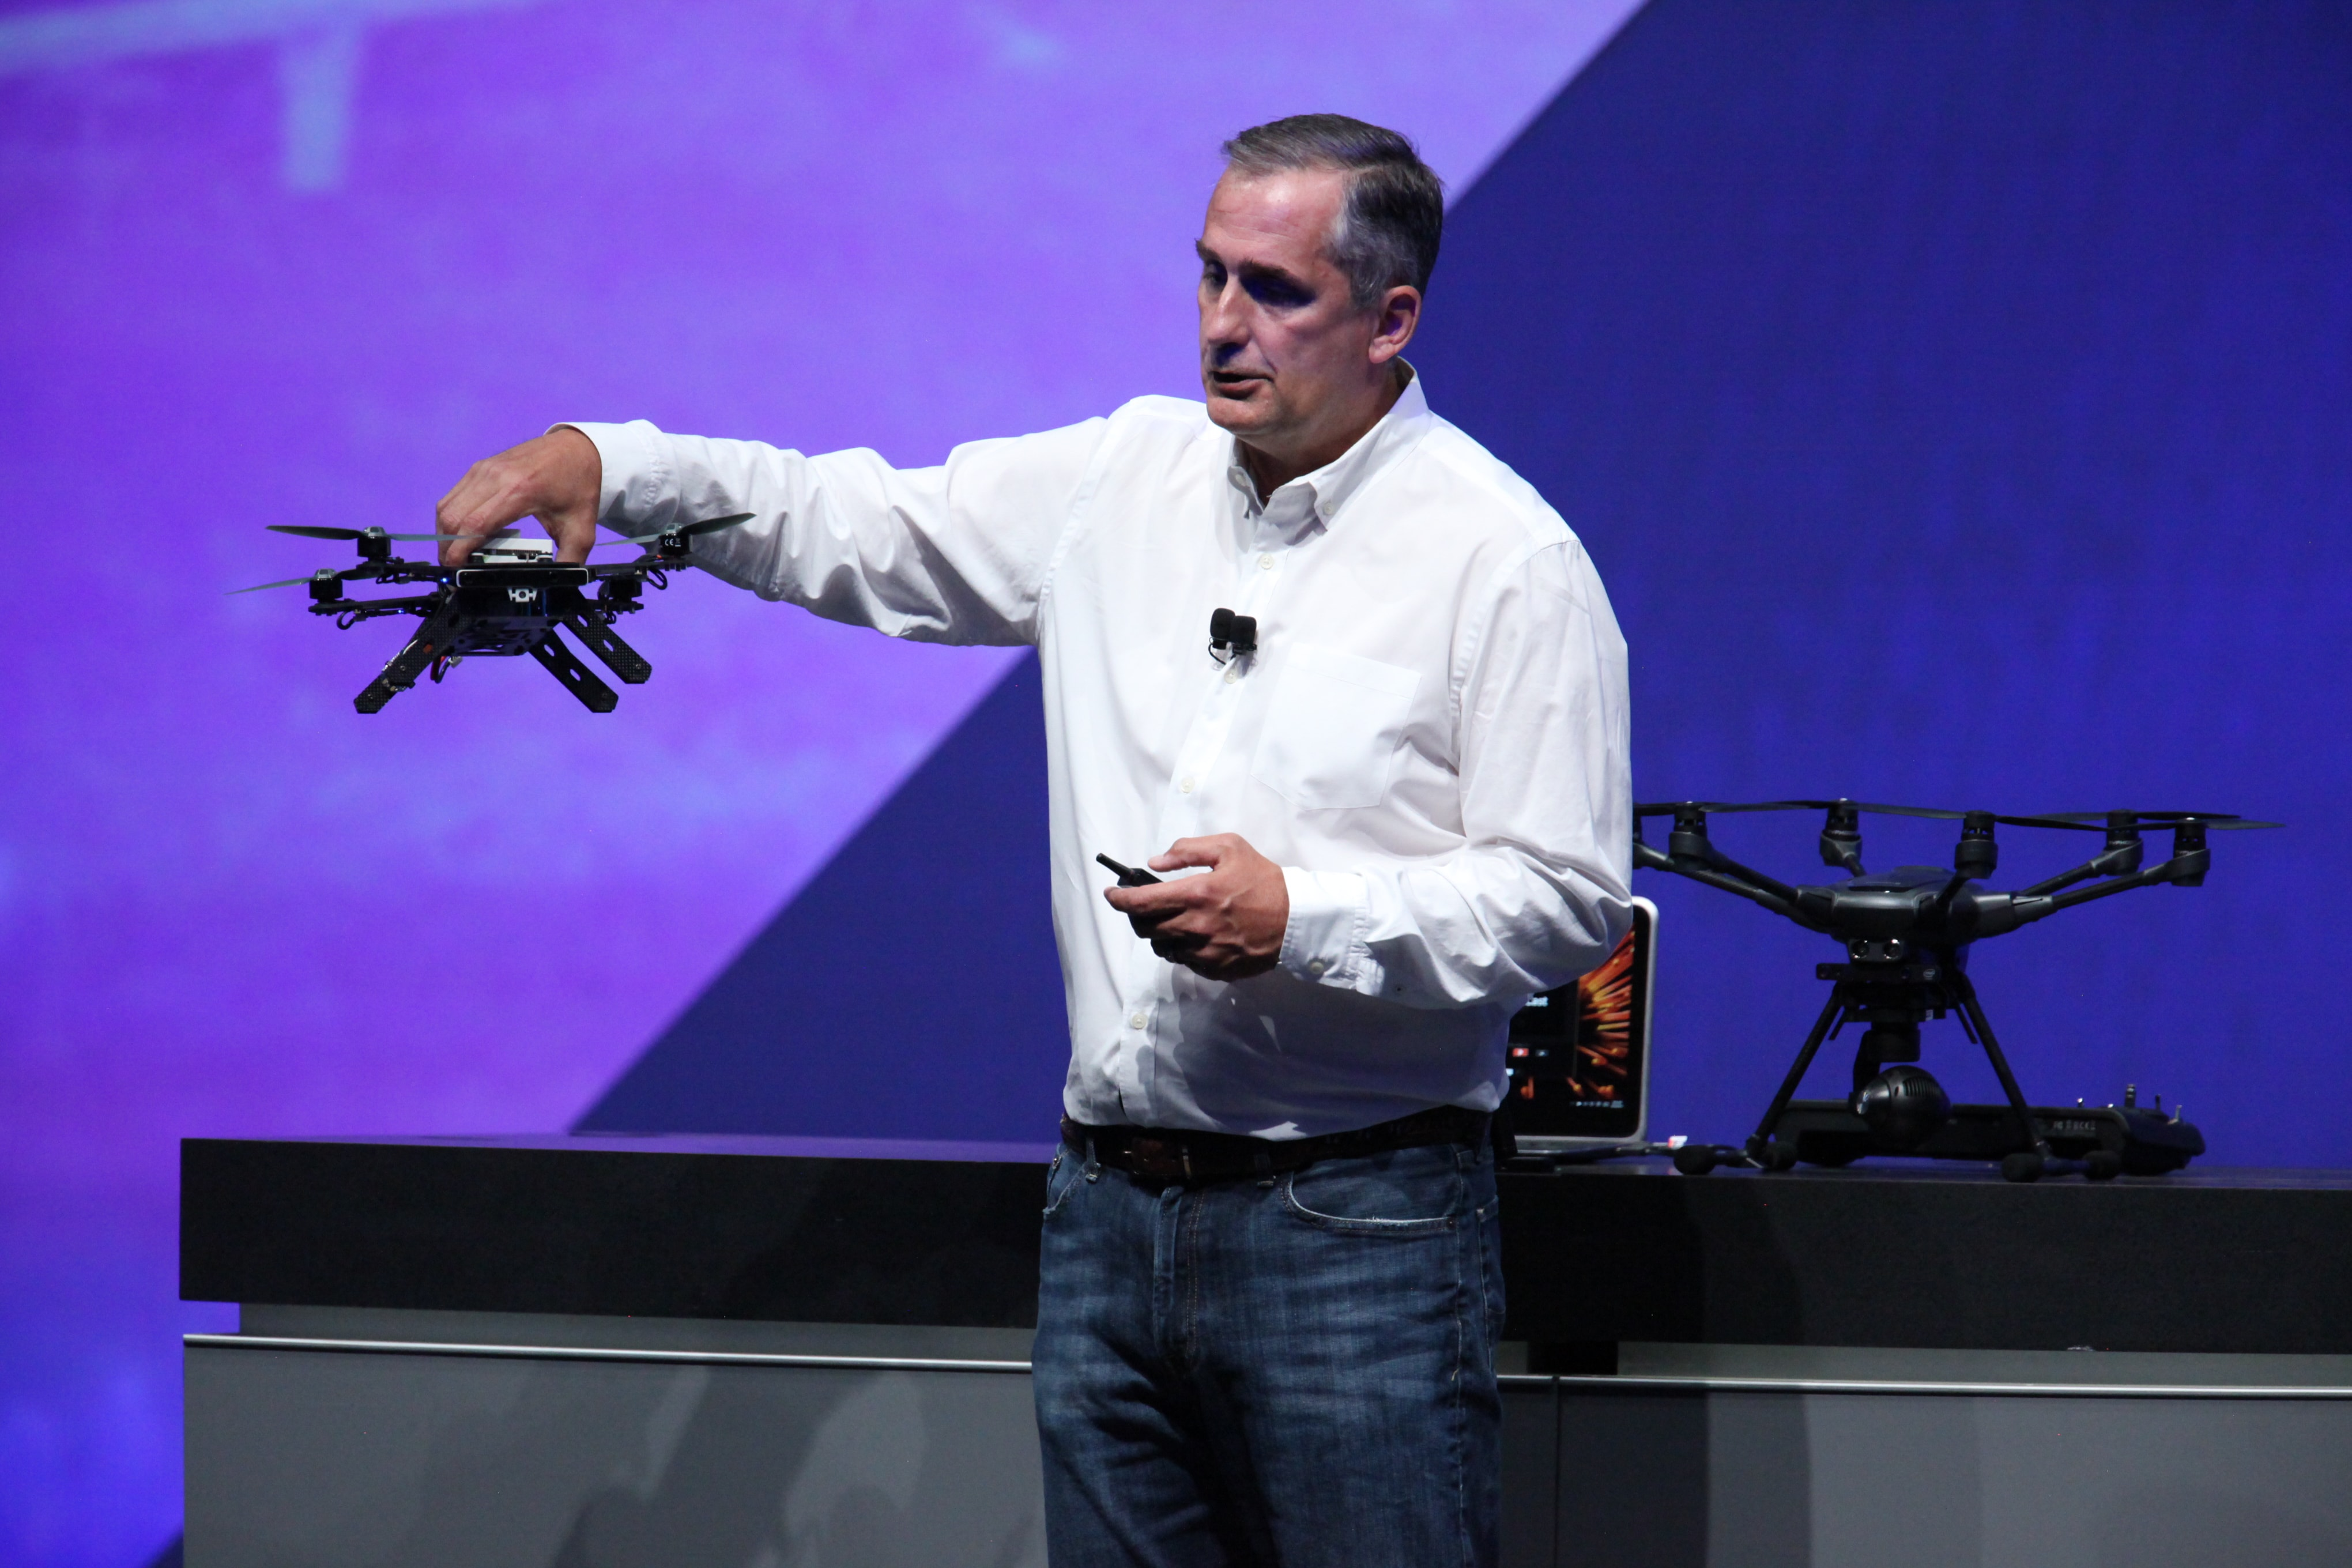drone: (1607, 790, 2303, 1183), (223, 504, 762, 722)
person: (438, 109, 1638, 1568)
